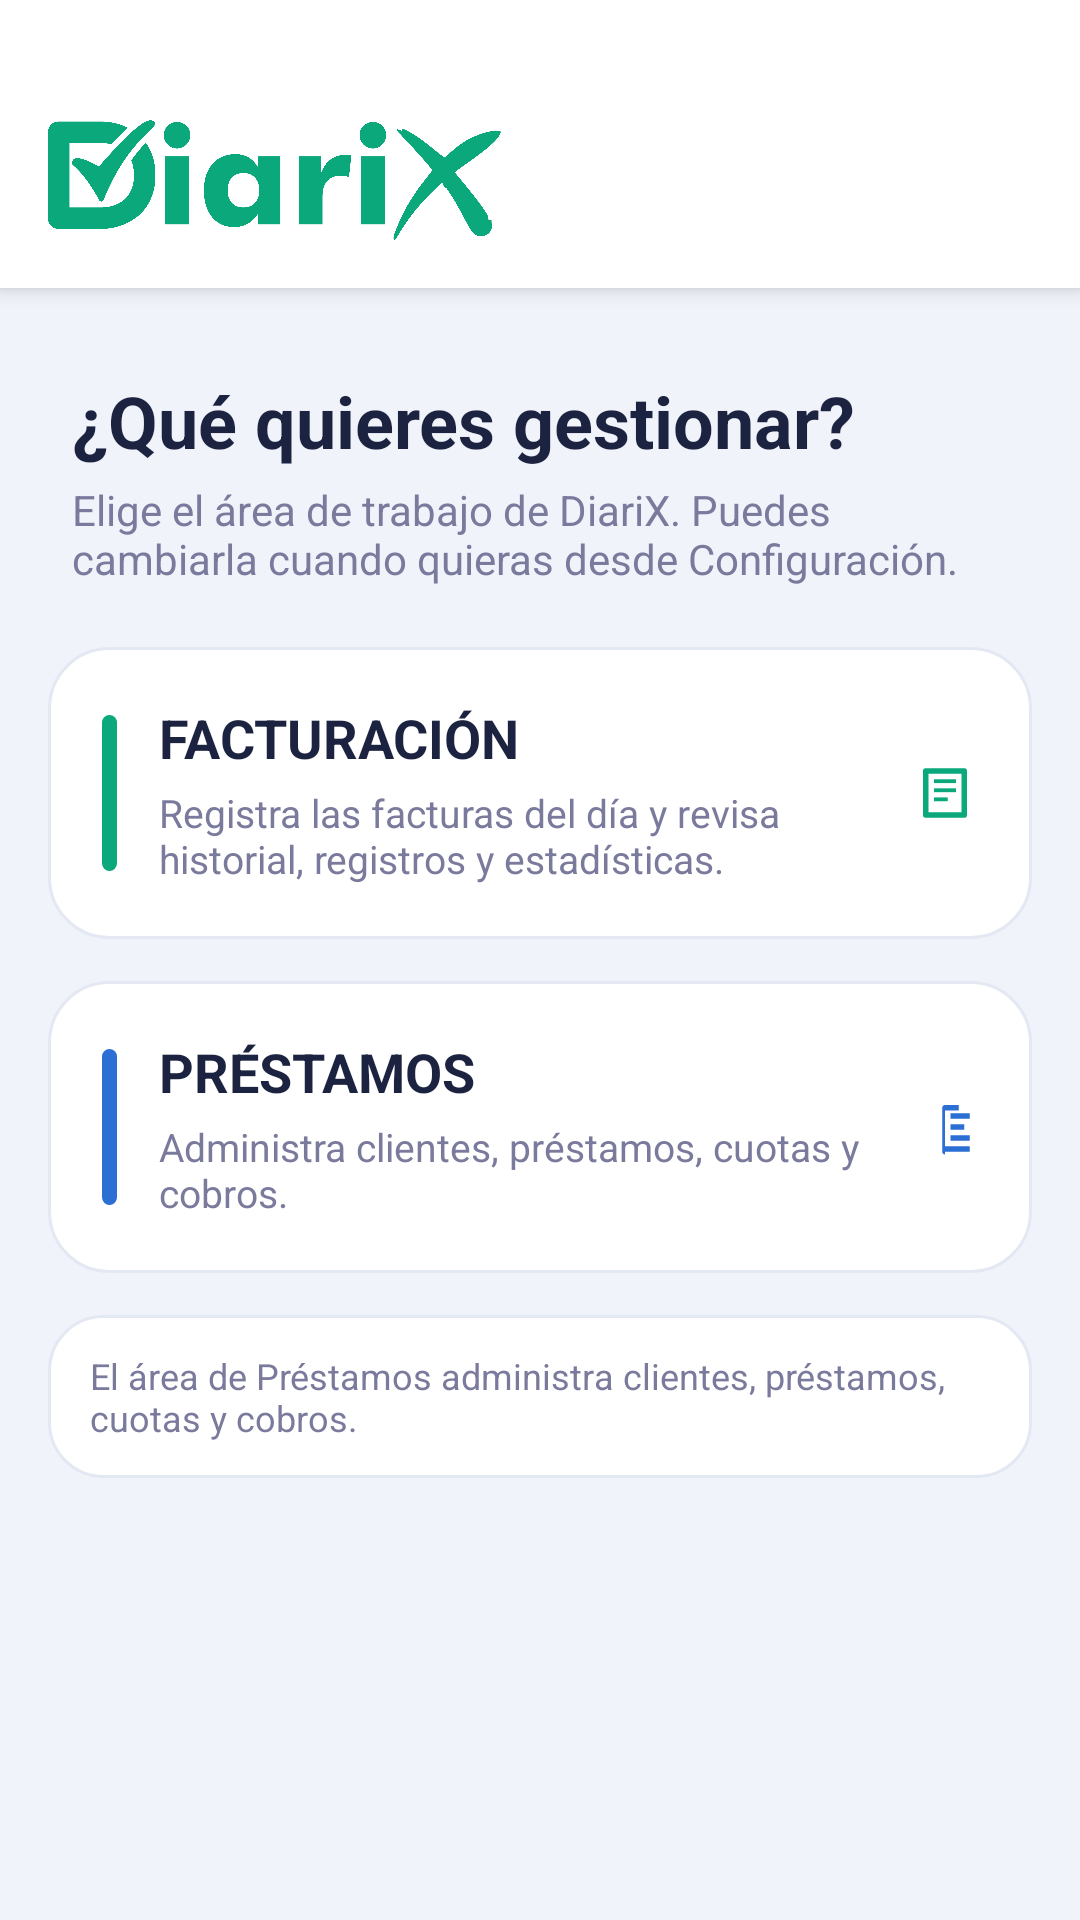

Screen size 1080px×1920px. Icon name, then its center in pixels as (x,y):
FACTURACIÓN: (945,793)
